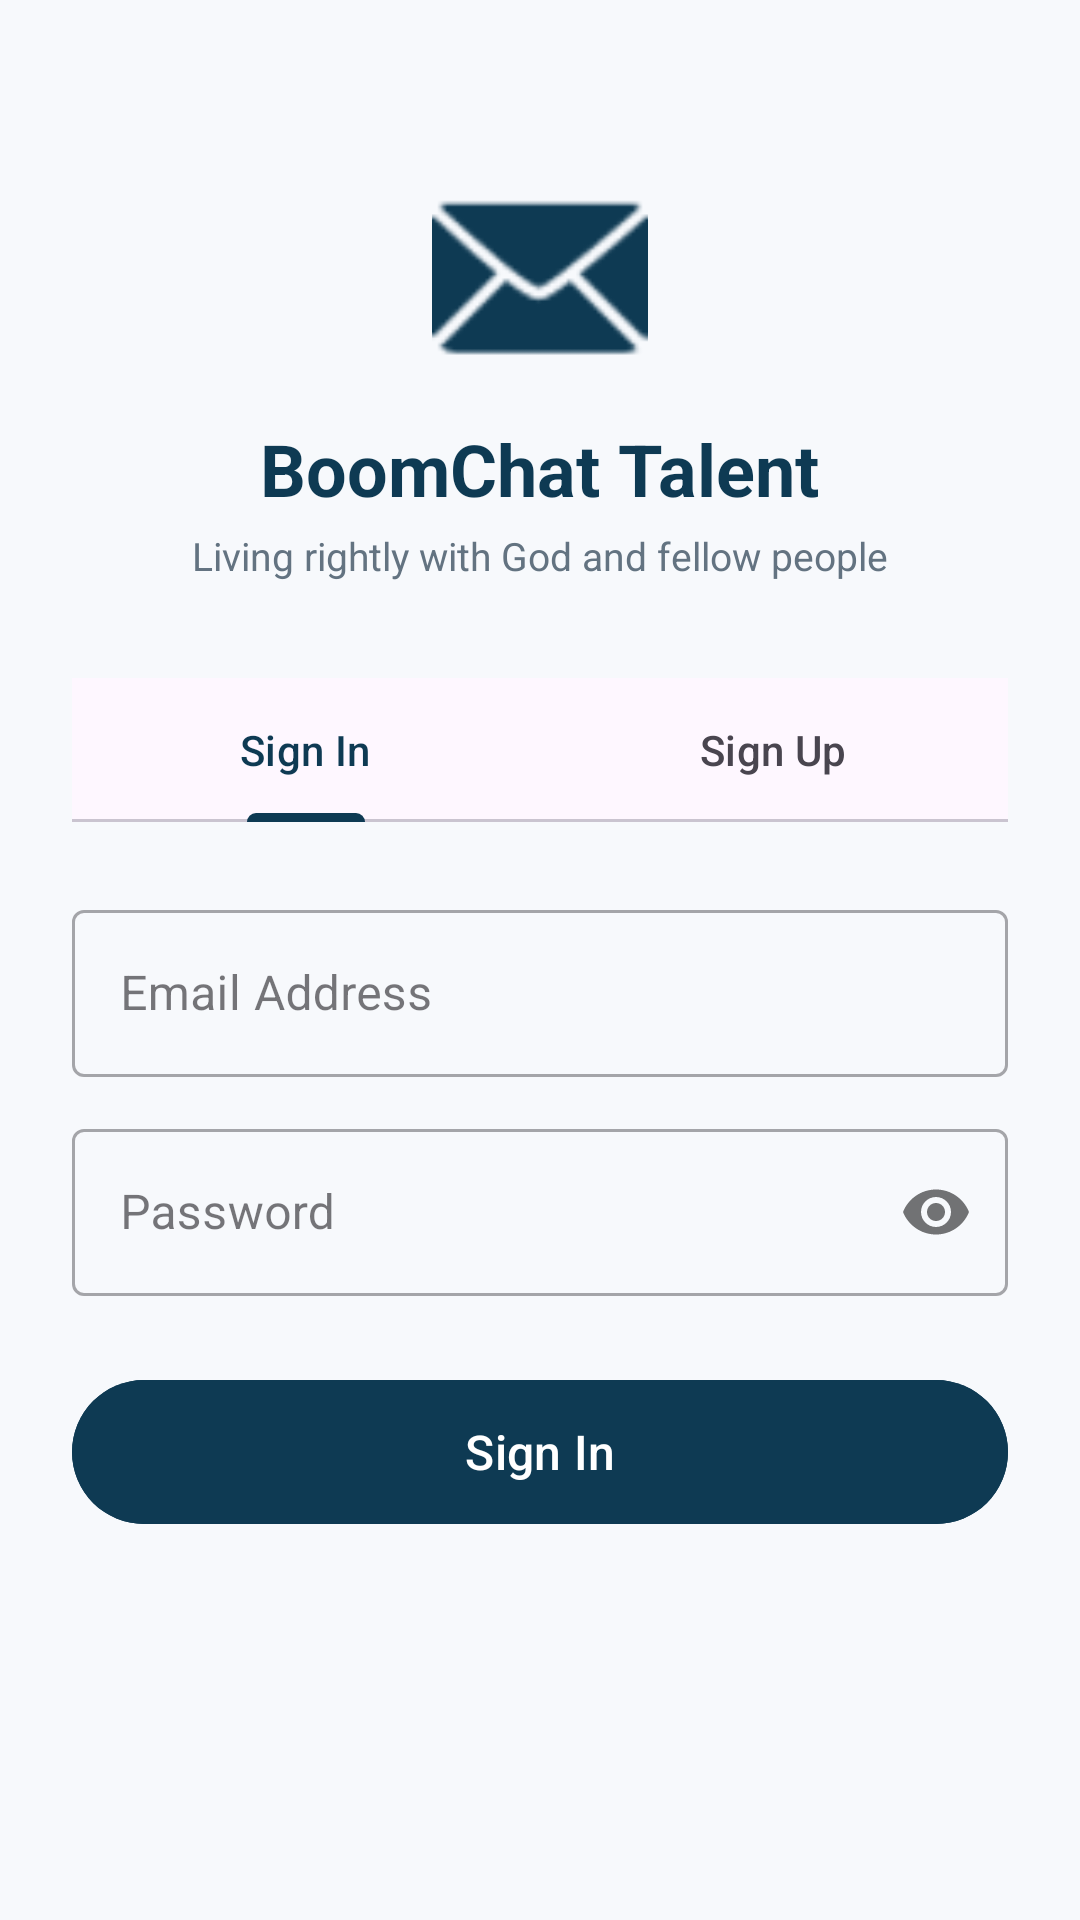

Where icons sit on this 1080×1920 app screen, as box=[x1, y1, x2, y2]:
email: box=[432, 201, 648, 355]
